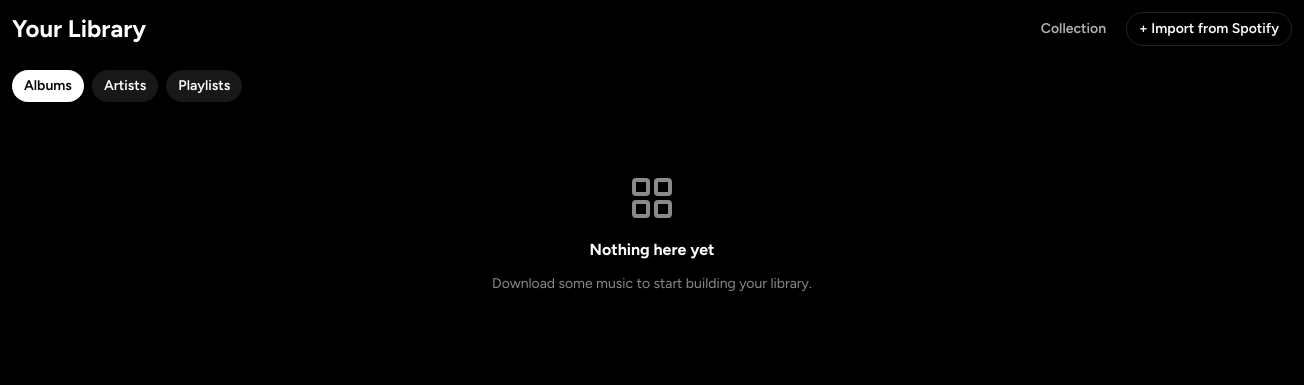
it: Library page › shows the error state when playlists fail to load
Click the button "Playlists": (204, 86) [166, 70, 242, 102]
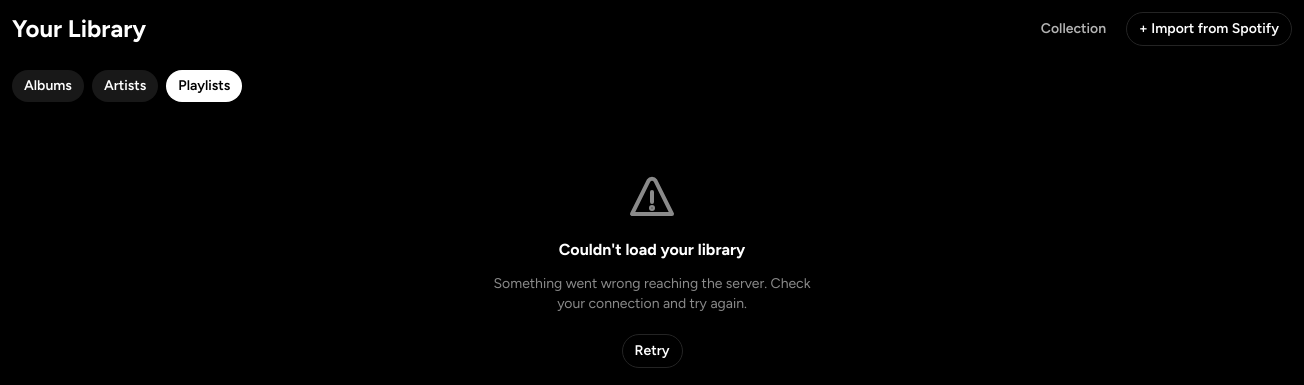
Now the text "Couldn't load your library" is shown, box [559, 238, 745, 262]
Now the text "Nothing here yet" is gone
